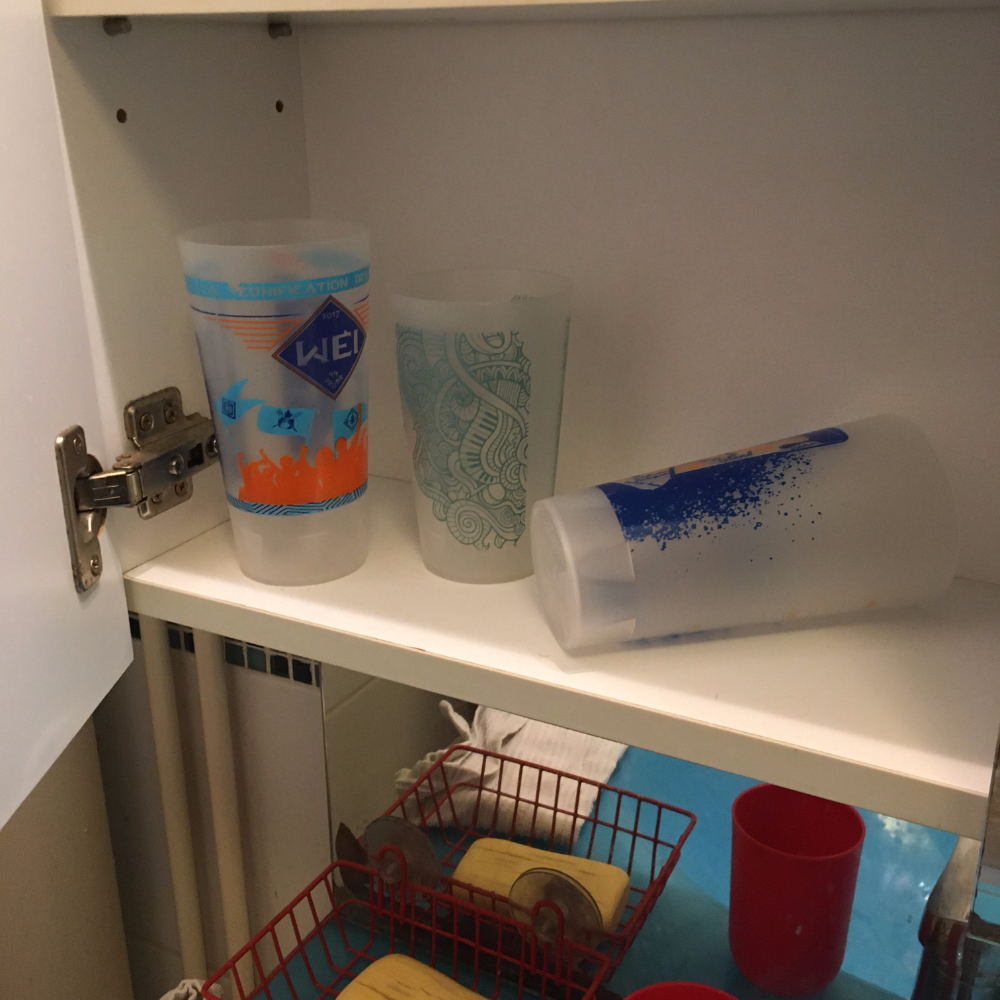ecocup: (533, 413, 959, 649), (179, 219, 372, 586), (386, 268, 575, 584)
